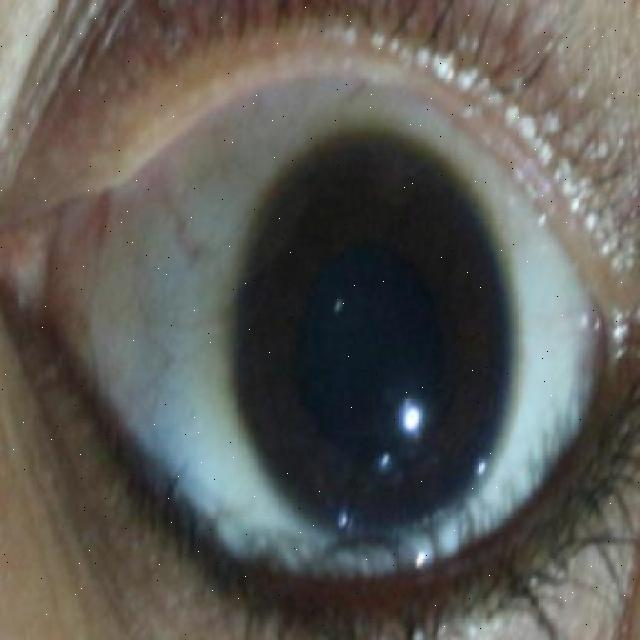Normal: (228, 128, 513, 546)
